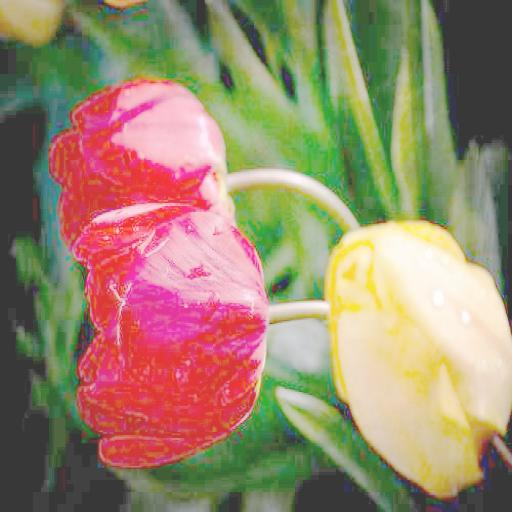tulip: (71, 204, 269, 462), (326, 219, 512, 490), (52, 76, 228, 248)
